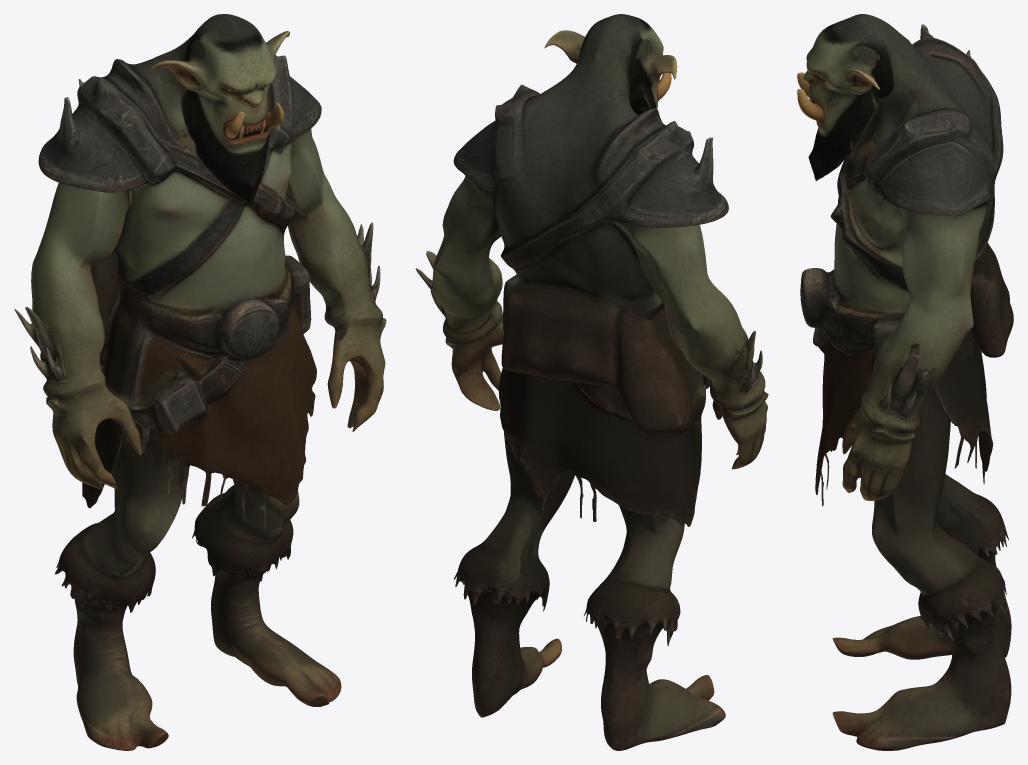
File: orc-meshy6lite-textured.glb
The picture shows the model from 3 angles, left to right: view 1: azimuth 30°, elevation 25°; view 2: azimuth 150°, elevation 25°; view 3: azimuth 270°, elevation 25°; orthographic projection. The views are drawn at different scales.
Bounding box in the file's own units: 0.9743 × 1.9 × 0.5468.
Materials: 1 (1 with a texture image).
